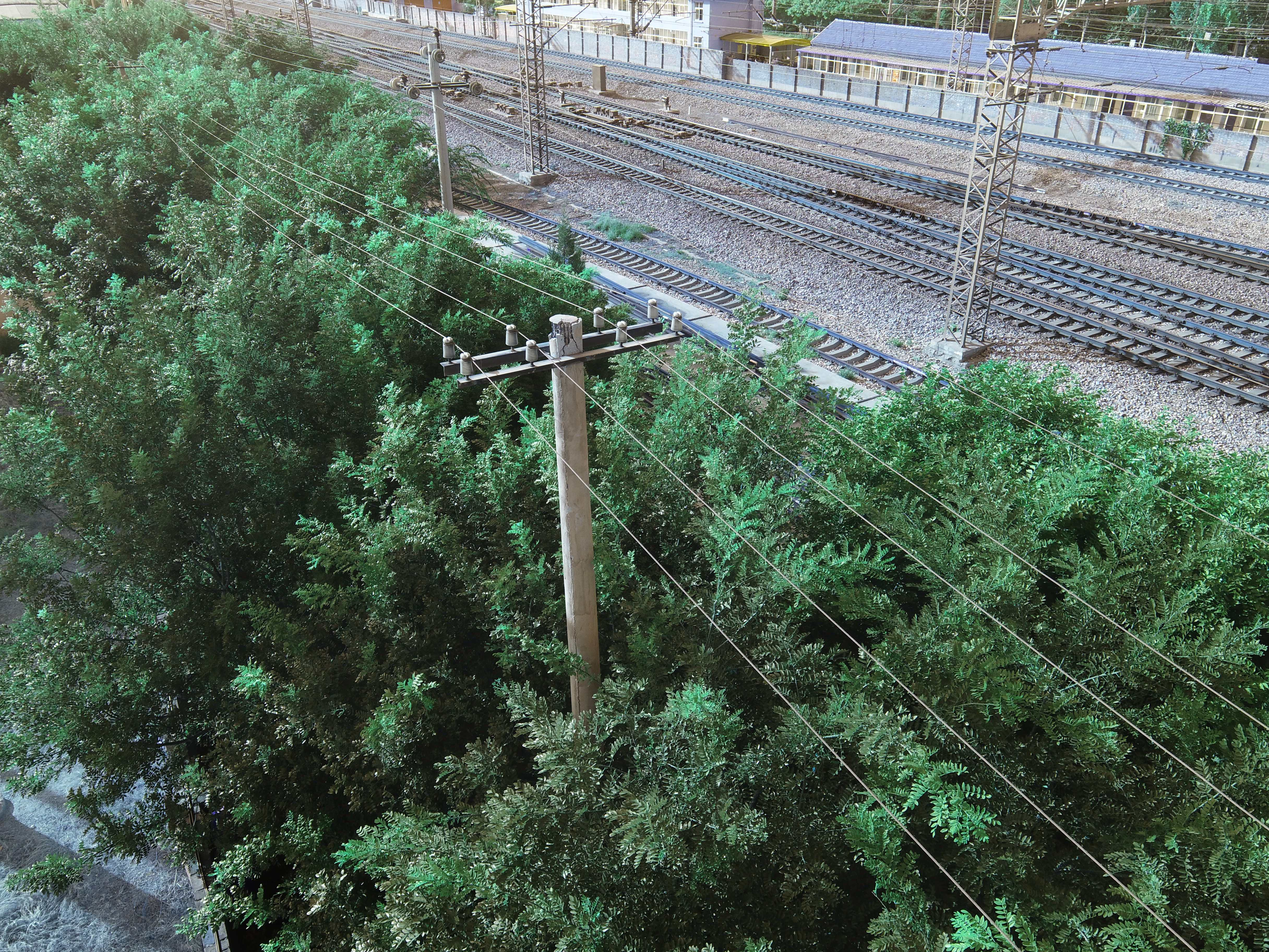severe_soiling_no_discharge_whole: (457, 349, 475, 376), (523, 338, 541, 363), (503, 322, 520, 348), (440, 336, 456, 361), (614, 321, 629, 345), (669, 311, 685, 333), (591, 308, 606, 330)
